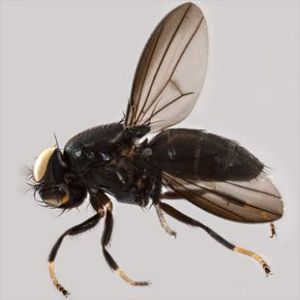Ephydridae: (25, 3, 286, 297)
